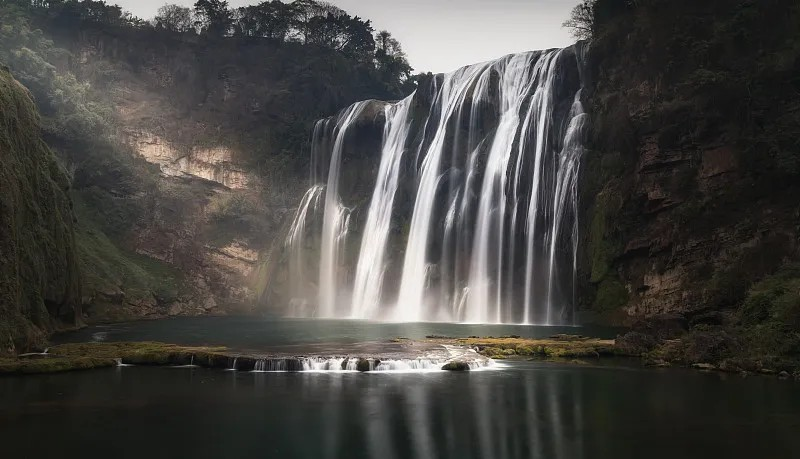Huangguoshu: (277, 37, 586, 326)
